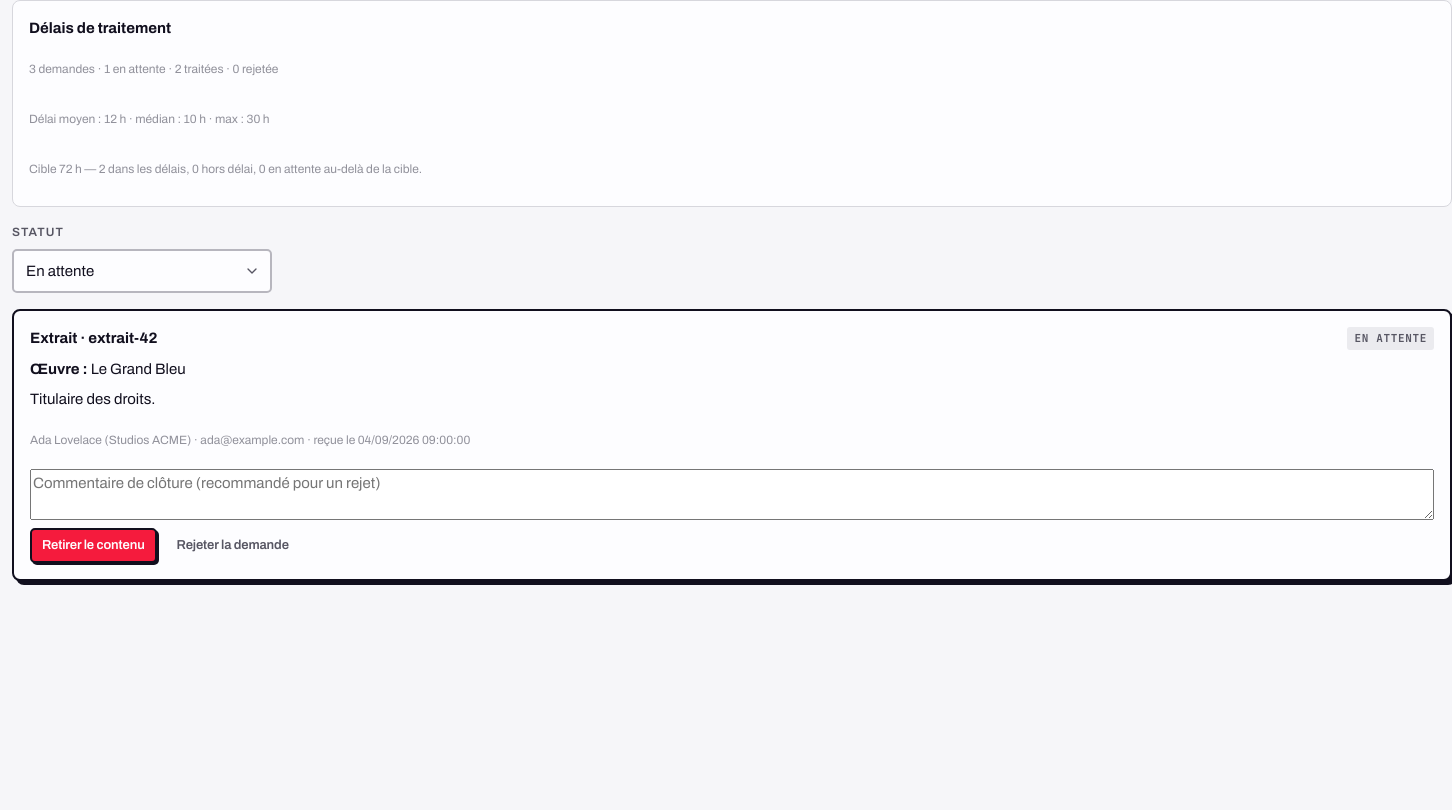
Scenario: DemandesRetraitDashboard › envoie l'action TRAITER avec le commentaire de clôture
Type "réclamation fondée" into the text box named "Commentaire de traitement" at (732, 494), box [30,468,1434,520]
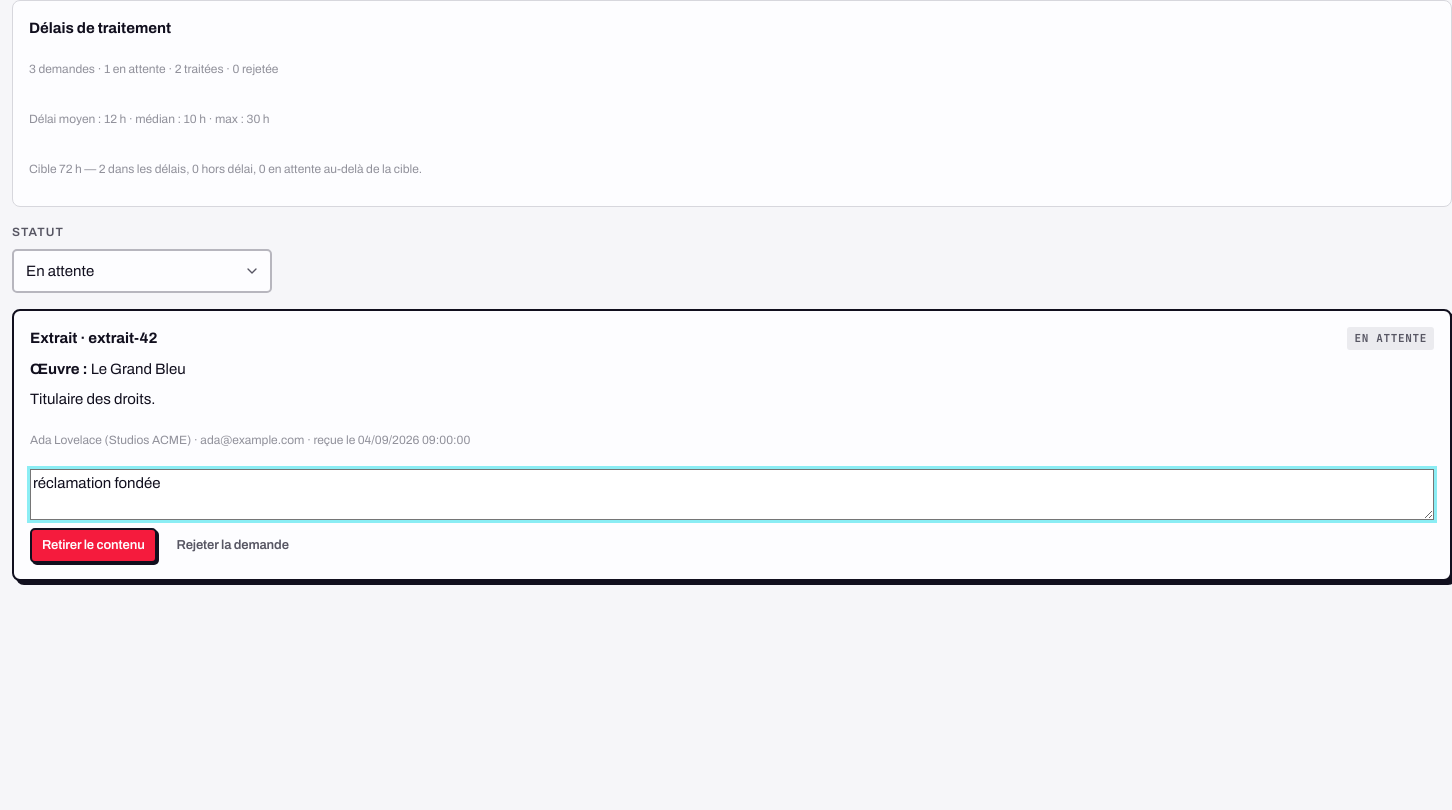
Click the button "Retirer le contenu" at (93, 545), box [30,528,157,563]
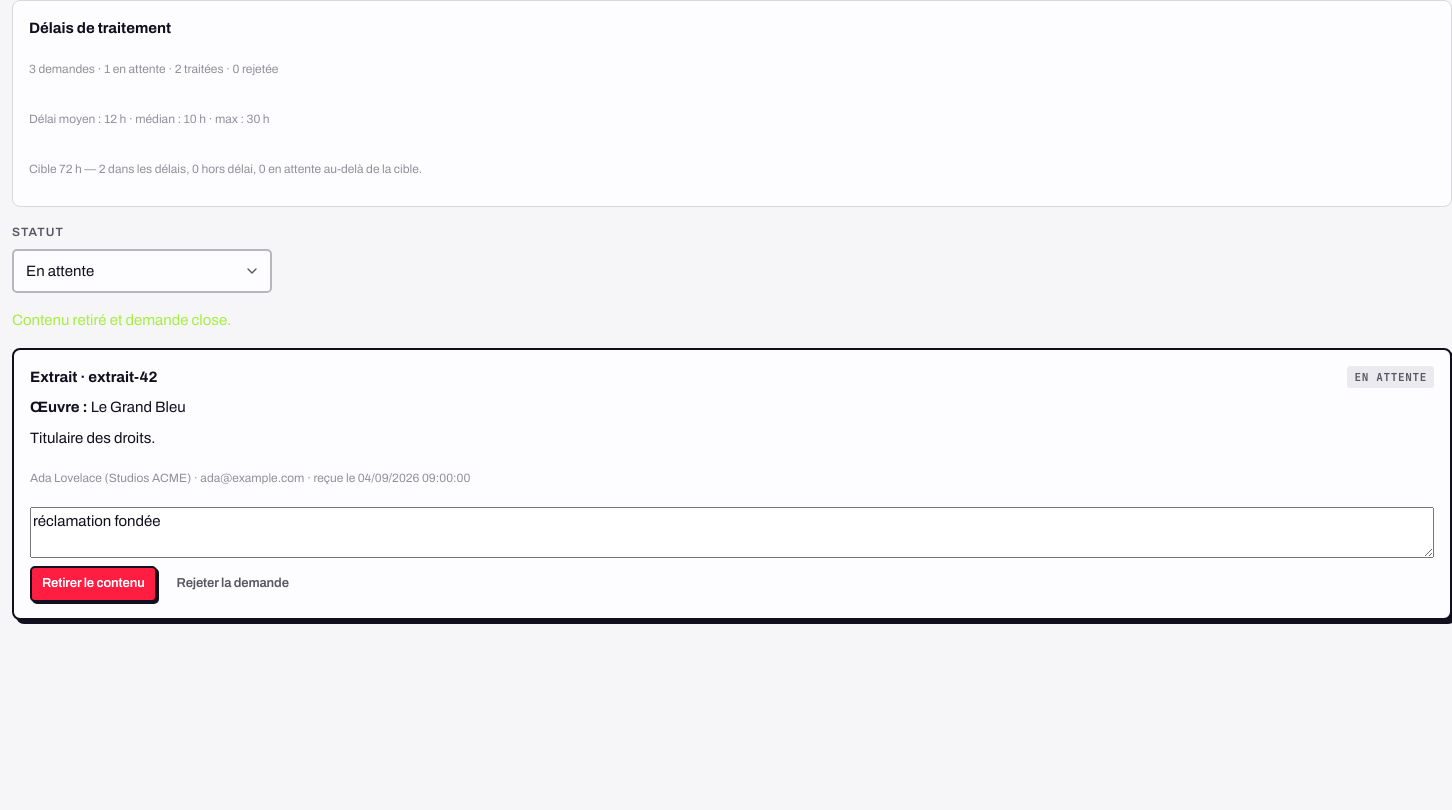
Expected: the message shows "Contenu retiré", [12,312,231,328]
